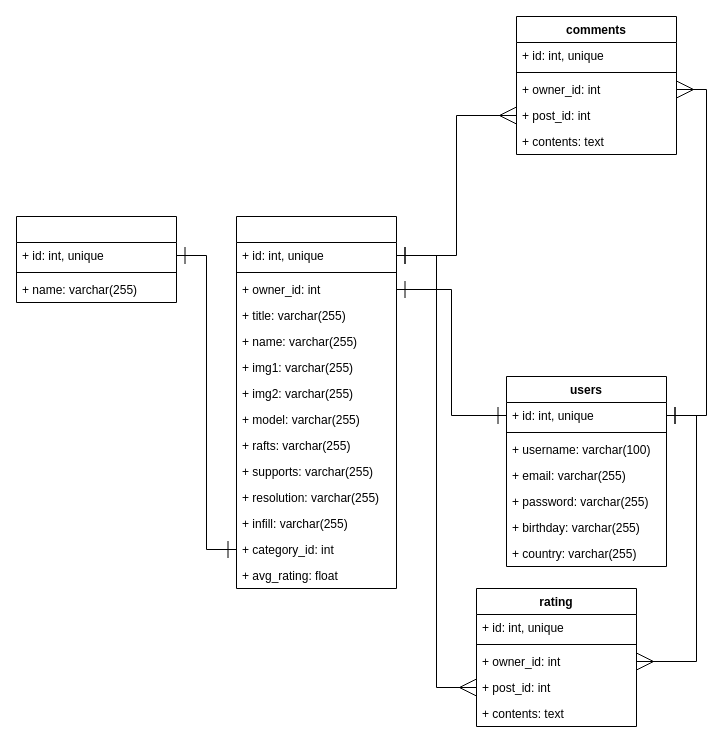
The diagram is 723 pixels wide and 743 high, and some of its shapes have lost their labels. The shapes that lost their labels are listed below. From the top down, each one's box as (x1, y1, x2, y2) in pixels, then its label:
(16, 216, 176, 302): categories
(236, 216, 396, 588): models
